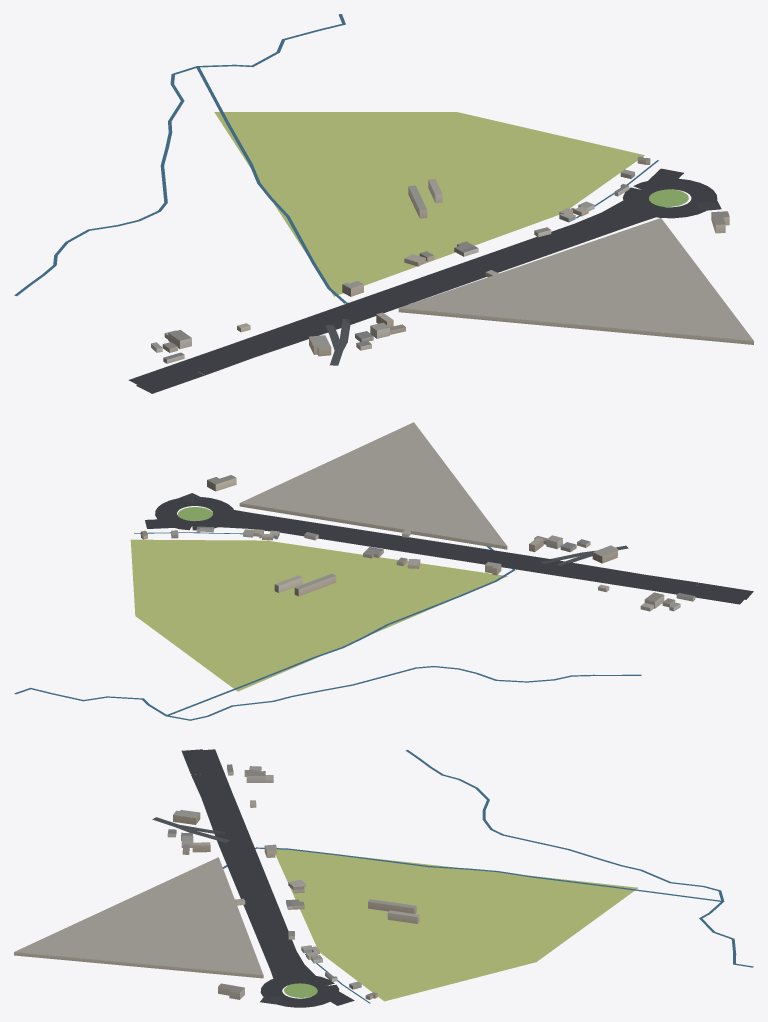
3 renders of one model, top to bottom at view 1: azimuth 30°, elevation 25°; view 2: azimuth 150°, elevation 25°; view 3: azimuth 270°, elevation 25°, orthographic. The views are drawn at different scales.
Parts seen in each view (by area): view 1: landuse, buildings_roofs, roads, buildings_walls, water; view 2: landuse, buildings_roofs, roads, buildings_walls, water; view 3: landuse, buildings_roofs, roads, buildings_walls, water.
Part boxes in pixels (left/top/right/bottom): landuse: left=214, top=112, right=688, bottom=296; buildings_roofs: left=151, top=156, right=753, bottom=359; roads: left=128, top=168, right=721, bottom=393; buildings_walls: left=151, top=159, right=753, bottom=363; water: left=14, top=14, right=658, bottom=303; landuse: left=130, top=507, right=507, bottom=691; buildings_roofs: left=141, top=422, right=694, bottom=607; roads: left=145, top=493, right=753, bottom=604; buildings_walls: left=140, top=478, right=695, bottom=611; water: left=14, top=532, right=641, bottom=720; landuse: left=275, top=847, right=638, bottom=1001; buildings_roofs: left=14, top=764, right=418, bottom=996; roads: left=152, top=749, right=354, bottom=1007; buildings_walls: left=14, top=766, right=419, bottom=999; water: left=222, top=750, right=753, bottom=1003.
Bounding box in the file's own units: 510 × 6.39 × 617.
